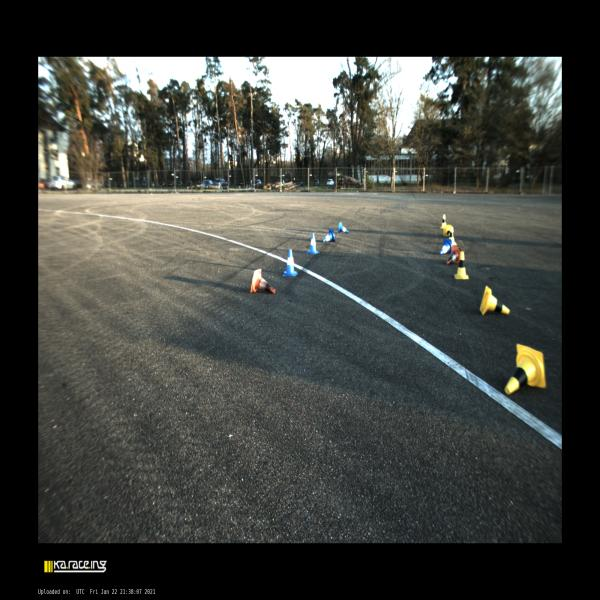blue_cone: (283, 249, 298, 276), (306, 233, 320, 254), (439, 238, 451, 254), (323, 229, 335, 242), (337, 222, 349, 234)
orange_cone: (251, 269, 276, 294), (251, 269, 275, 294), (446, 247, 459, 265)
yellow_cone: (505, 343, 546, 394), (479, 285, 510, 315), (454, 251, 469, 279), (449, 226, 457, 245), (443, 225, 451, 236), (440, 214, 446, 228)
